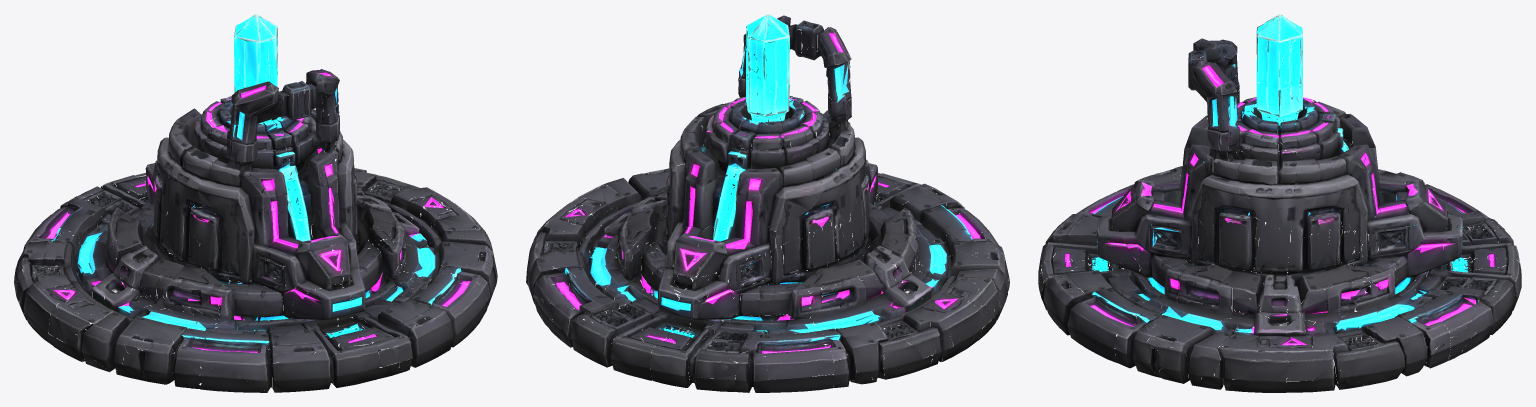
The model's file is warrior-2-tier-3.glb.
The picture shows the model from 3 angles, left to right: view 1: azimuth 30°, elevation 25°; view 2: azimuth 150°, elevation 25°; view 3: azimuth 270°, elevation 25°; orthographic projection.
Parts seen in each view (by area): view 1: fixed-platform, moving-assembly; view 2: fixed-platform, moving-assembly; view 3: fixed-platform, moving-assembly.
Part boxes in pixels (x1,y1,x2,y2): fixed-platform: (14, 163, 497, 392); moving-assembly: (152, 14, 359, 287); fixed-platform: (526, 163, 1009, 392); moving-assembly: (664, 14, 871, 289); fixed-platform: (1038, 166, 1521, 392); moving-assembly: (1111, 14, 1448, 271).
Size of the model in its own units: 0.8353 by 0.529 by 0.831.
3 materials, 3 textured.
